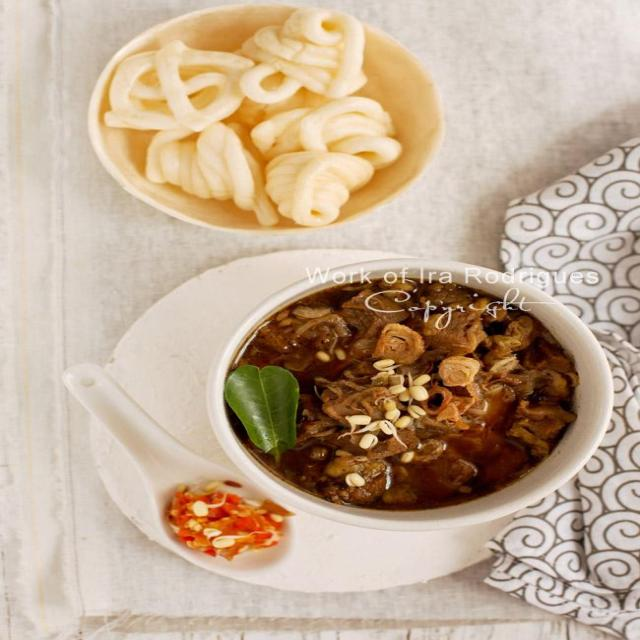Rawon: (249, 288, 563, 498)
